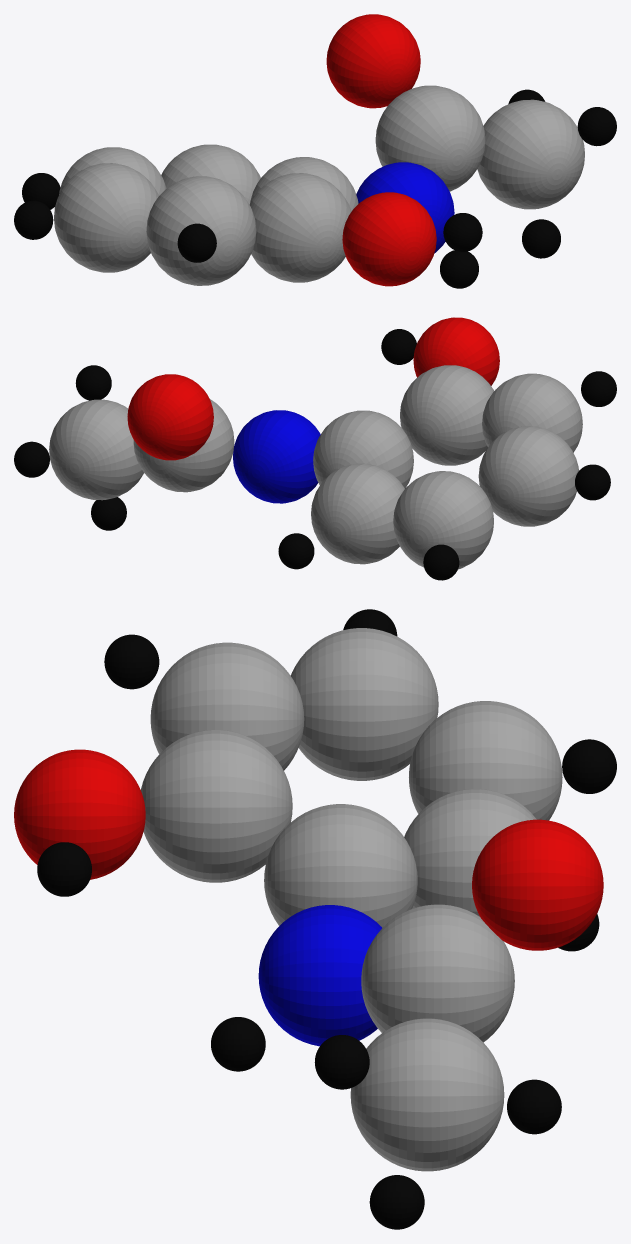
File: Paracetamol (Acetaminophen).glb
The picture shows the model from 3 angles, top to bottom: view 1: azimuth 30°, elevation 25°; view 2: azimuth 150°, elevation 25°; view 3: azimuth 270°, elevation 25°; orthographic projection. The views are drawn at different scales.
Parts seen in each view (by area): view 1: world; view 2: world; view 3: world.
Boxes of the visible parts, left/top/right/bottom form: world: left=14, top=14, right=616, bottom=288; world: left=14, top=317, right=616, bottom=580; world: left=14, top=609, right=616, bottom=1229.
Bounding box in the file's own units: 8.64 × 3.22 × 5.49.
